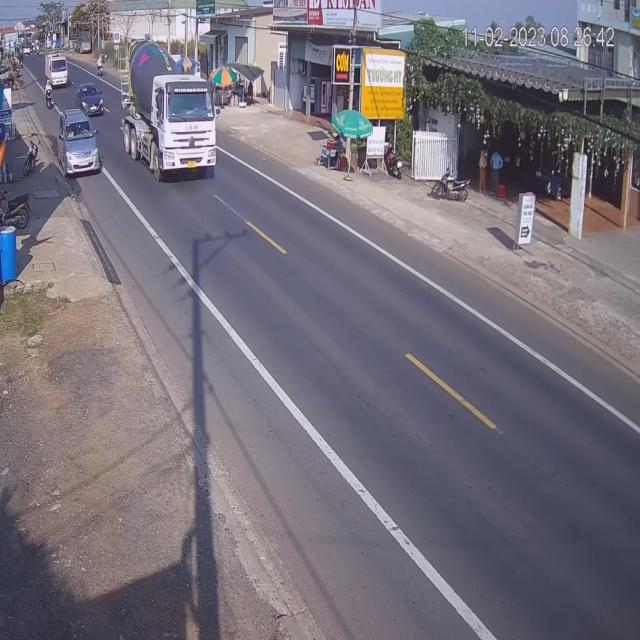car: (57, 108, 101, 178), (80, 84, 106, 116)
truck: (123, 46, 226, 183), (45, 52, 70, 88)
